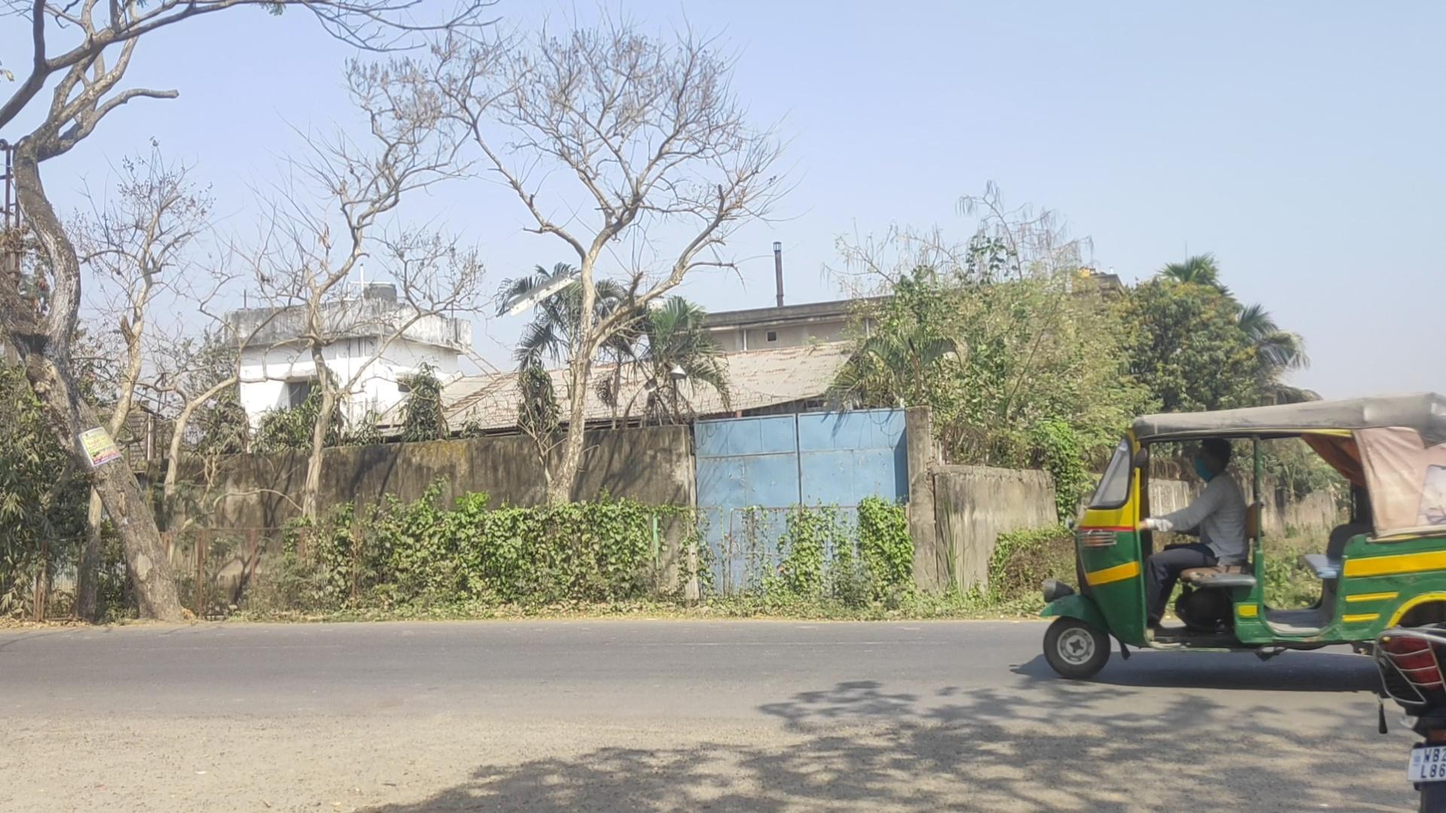Auto: (1037, 391, 1446, 685)
